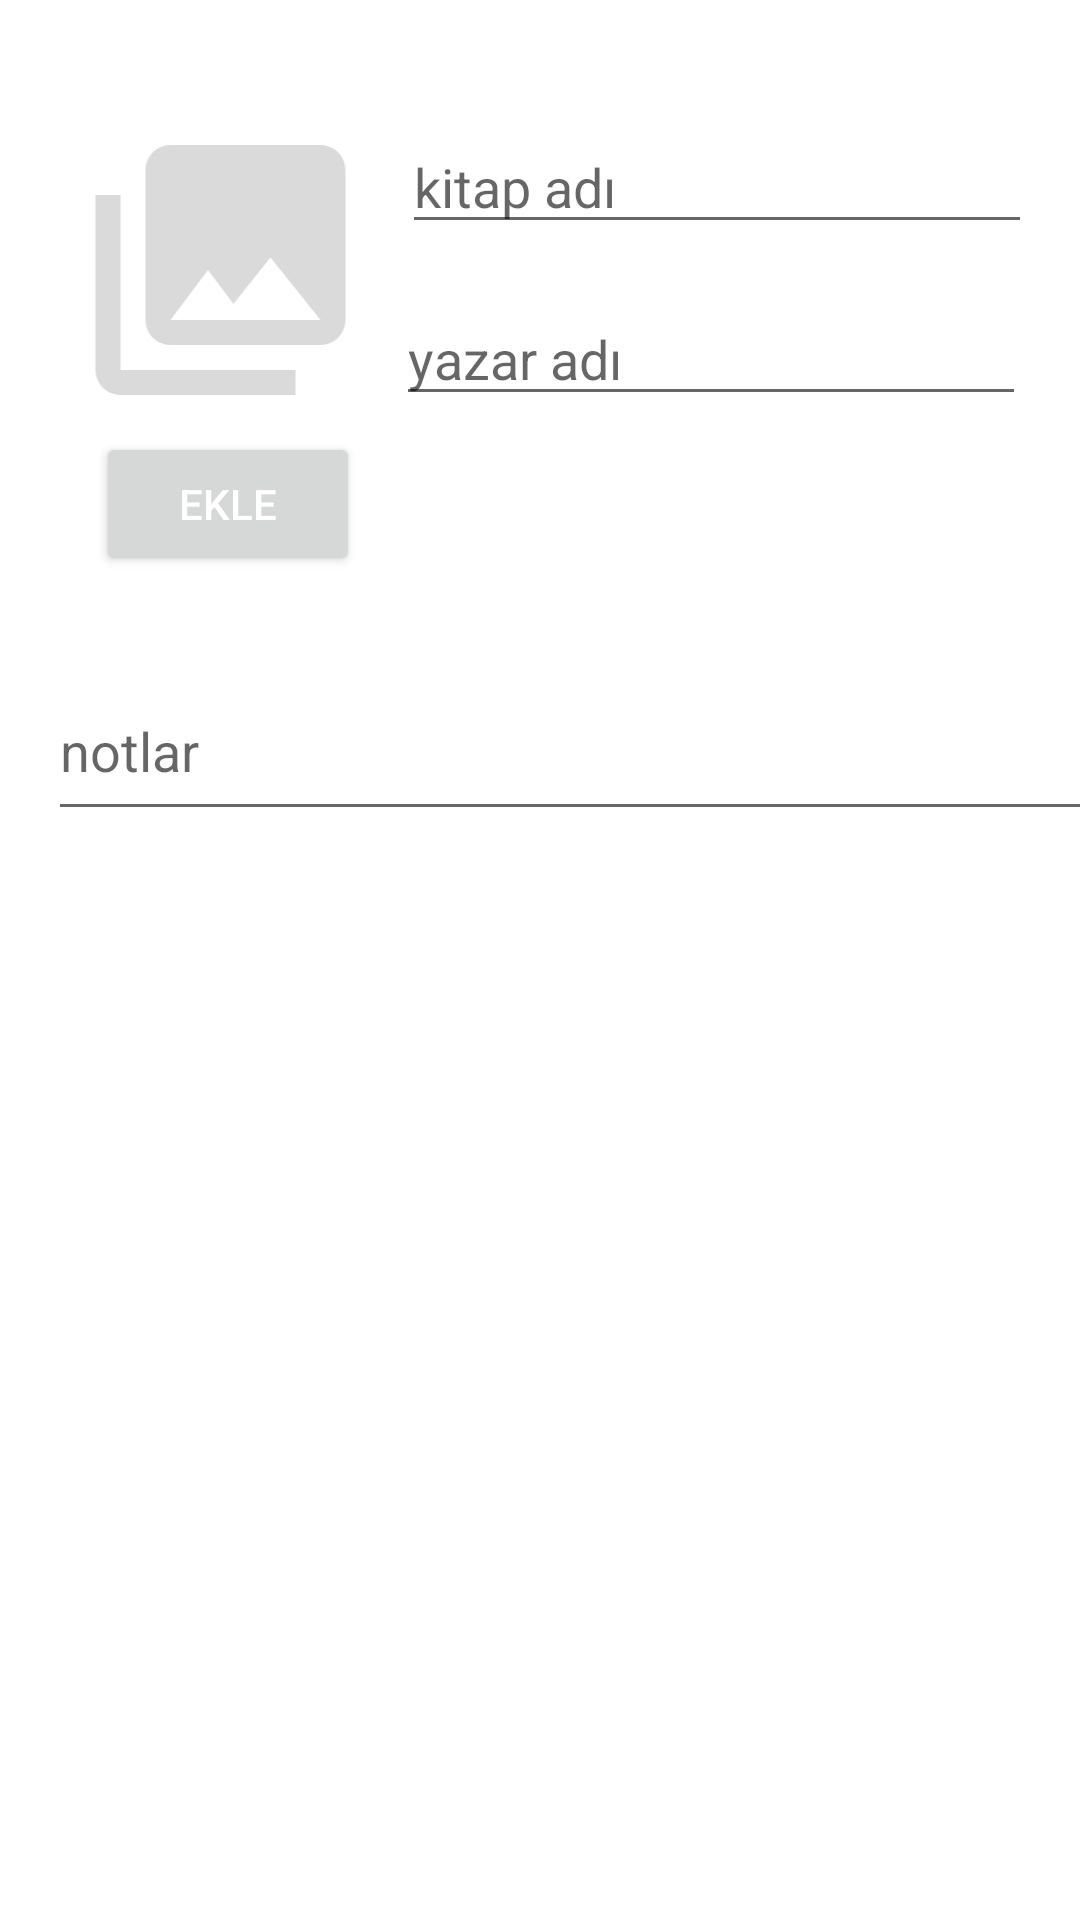

Where icons sit on this 1080*1920 app screen, as rect(x1, y1, x2, y2):
photo library: rect(96, 145, 345, 395)
